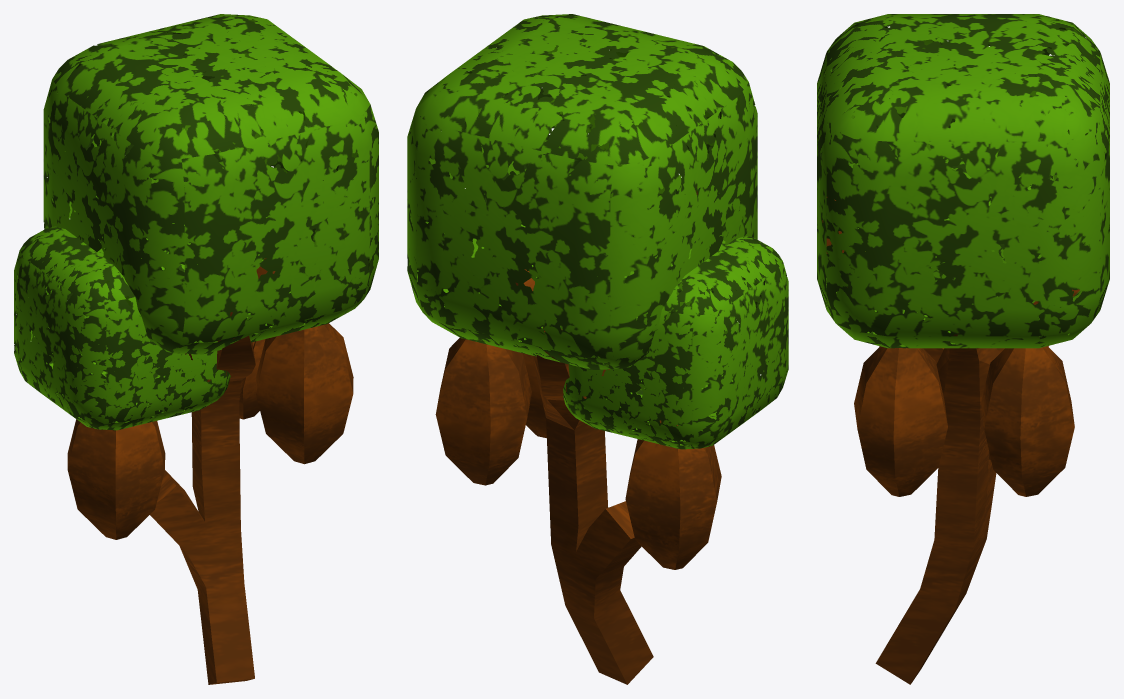
File: tanaman_pohon_biji fix.fbx
The picture shows the model from 3 angles, left to right: view 1: azimuth 30°, elevation 25°; view 2: azimuth 150°, elevation 25°; view 3: azimuth 270°, elevation 25°; orthographic projection. The views are drawn at different scales.
Visible parts, largest first — view 1: tree with seeds; view 2: tree with seeds; view 3: tree with seeds.
Part boxes in pixels (x1,y1,x2,y2): tree with seeds: (14, 14, 378, 684); tree with seeds: (407, 14, 788, 684); tree with seeds: (817, 14, 1109, 684).
Bounding box in the file's own units: 750 × 1495 × 632.
1 material, 1 textured.
